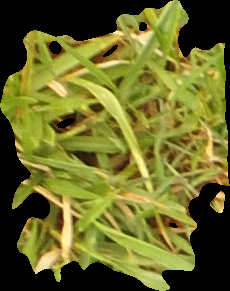grass: (2, 1, 228, 290)
